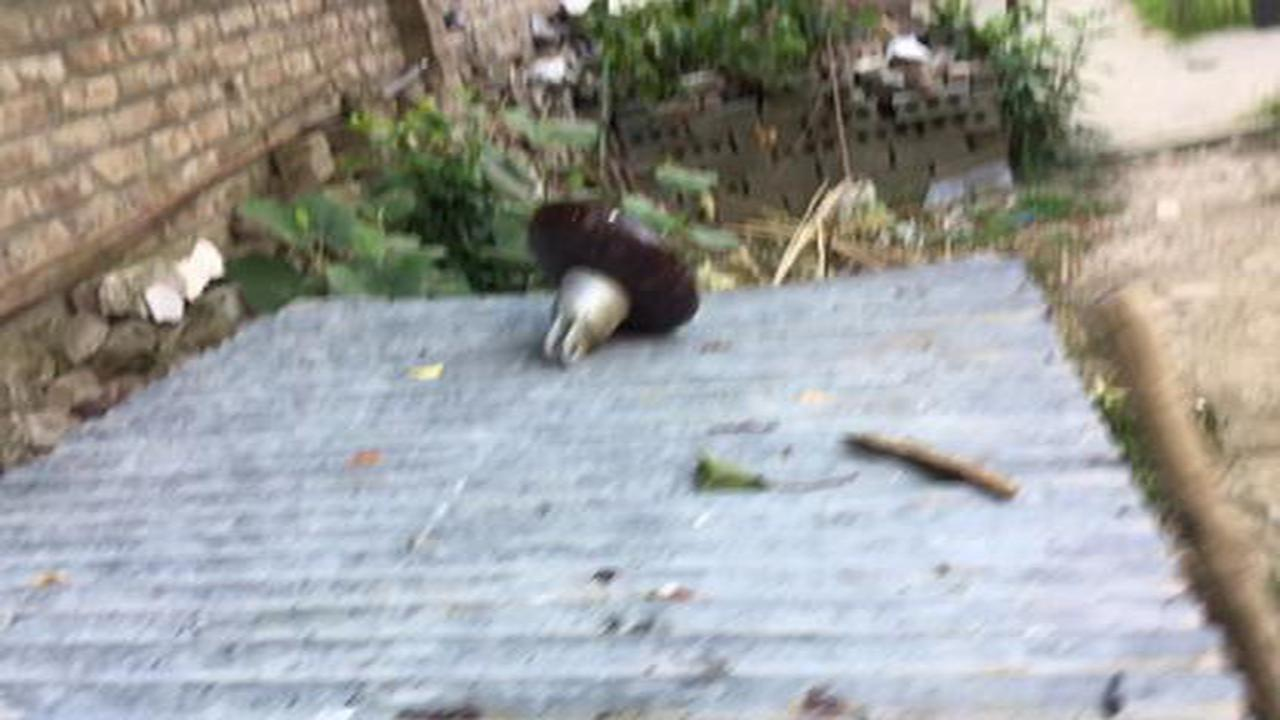insulator_disc: (522, 195, 704, 378)
